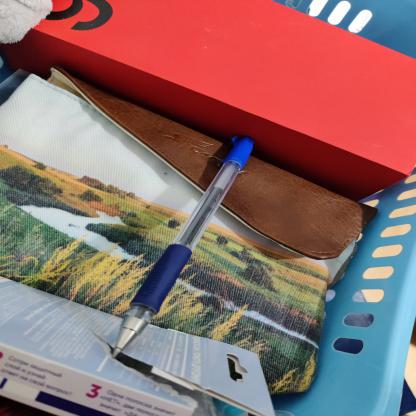pen: (83, 134, 269, 357)
